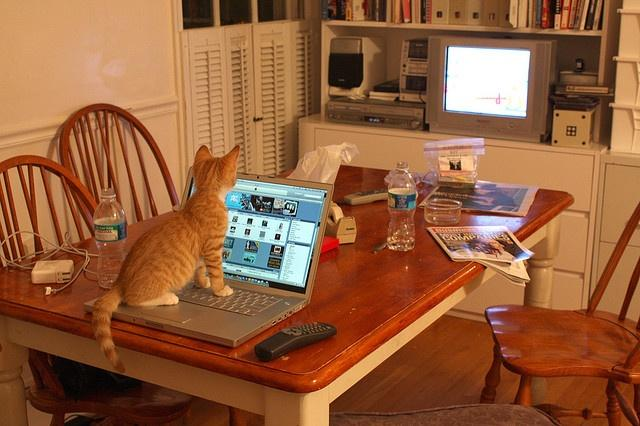Kursi: (473, 198, 639, 407)
Meja: (0, 160, 574, 425)
